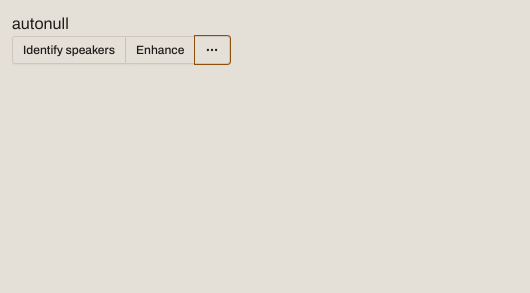
Test: one "Who was on the mic?" state per meeting view (specs/0078) › after an override and the pass it starts, the owner action and the submenu agree
This screenshot has width=530, height=293.
Expected: the text with test id "override" reads "auto", [12, 15, 44, 32]
Expected: the text with test id "owner-action" reads "null", [44, 15, 69, 32]
Step 1. Press Enter in the button named "More transcript actions", box [195, 36, 230, 64]
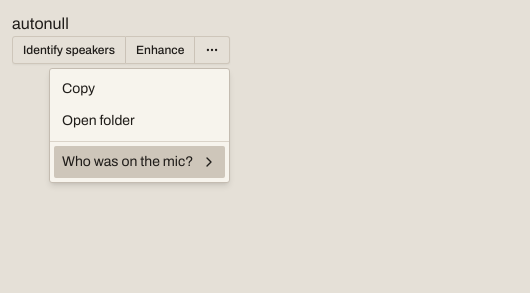
Step 2. Press ArrowRight in the menu item "Who was on the mic?", box [54, 146, 225, 178]
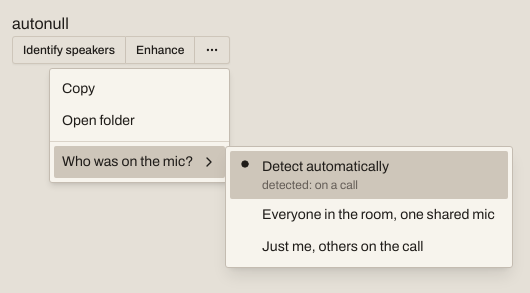
Step 3. Click the menu item "Everyone in the room, one shared mic" → (378, 214), box [262, 207, 495, 222]
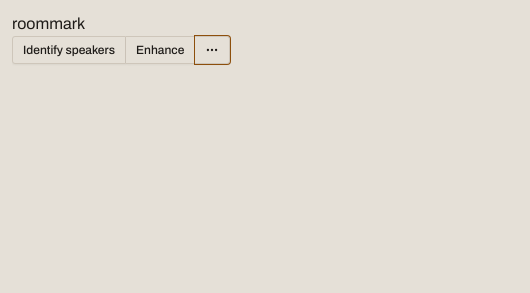
Now the text with test id "override" reads "room", box [12, 15, 49, 32]
Now the text with test id "owner-action" reads "mark", box [49, 15, 85, 32]
Step 4. Press Enter in the button named "More transcript actions", box [195, 36, 230, 64]
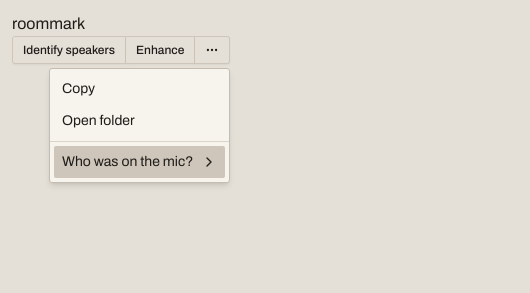
Step 5. Press ArrowRight in the menu item "Who was on the mic?", box [54, 146, 225, 178]
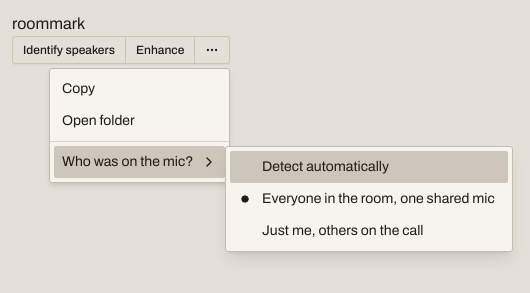
Now the menu item "Everyone in the room, one shared mic" is shown, box [241, 191, 495, 206]
